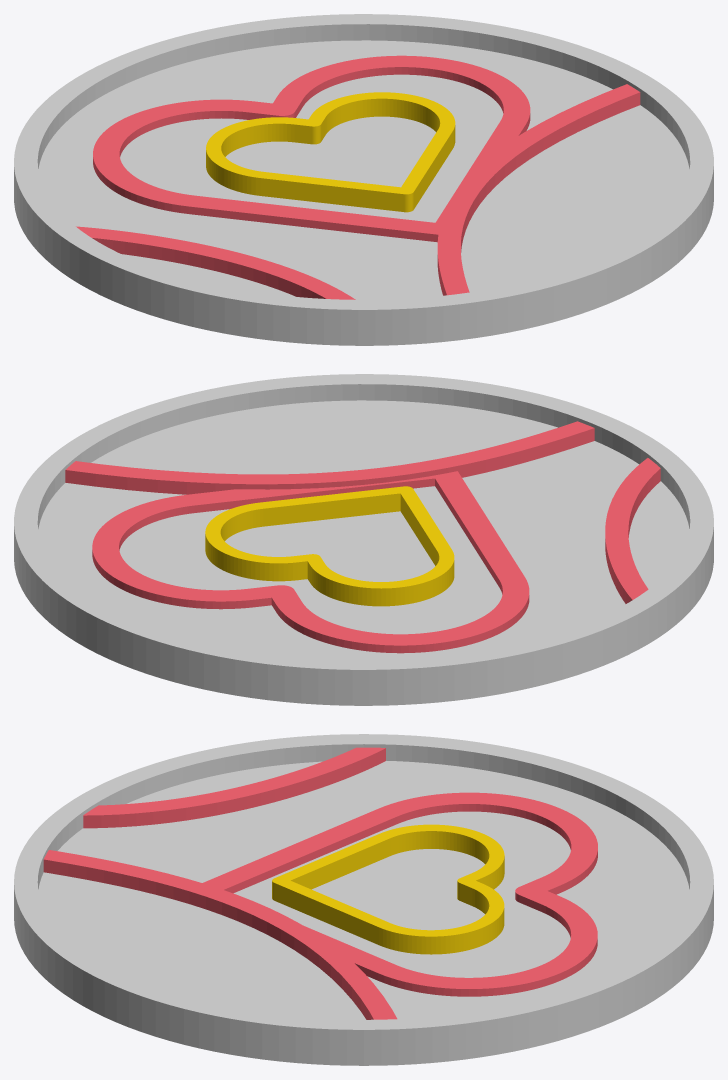
File: EmmaAward.glb
The picture shows the model from 3 angles, top to bottom: view 1: azimuth 30°, elevation 25°; view 2: azimuth 150°, elevation 25°; view 3: azimuth 270°, elevation 25°; orthographic projection.
Parts seen in each view (by area): view 1: Circle; view 2: Circle; view 3: Circle.
Boxes of the visible parts, left/top/right/bottom form: Circle: left=14, top=14, right=713, bottom=345; Circle: left=14, top=374, right=713, bottom=705; Circle: left=14, top=734, right=713, bottom=1065.
Size of the model in its own units: 0.3947 by 0.0233 by 0.3947.
